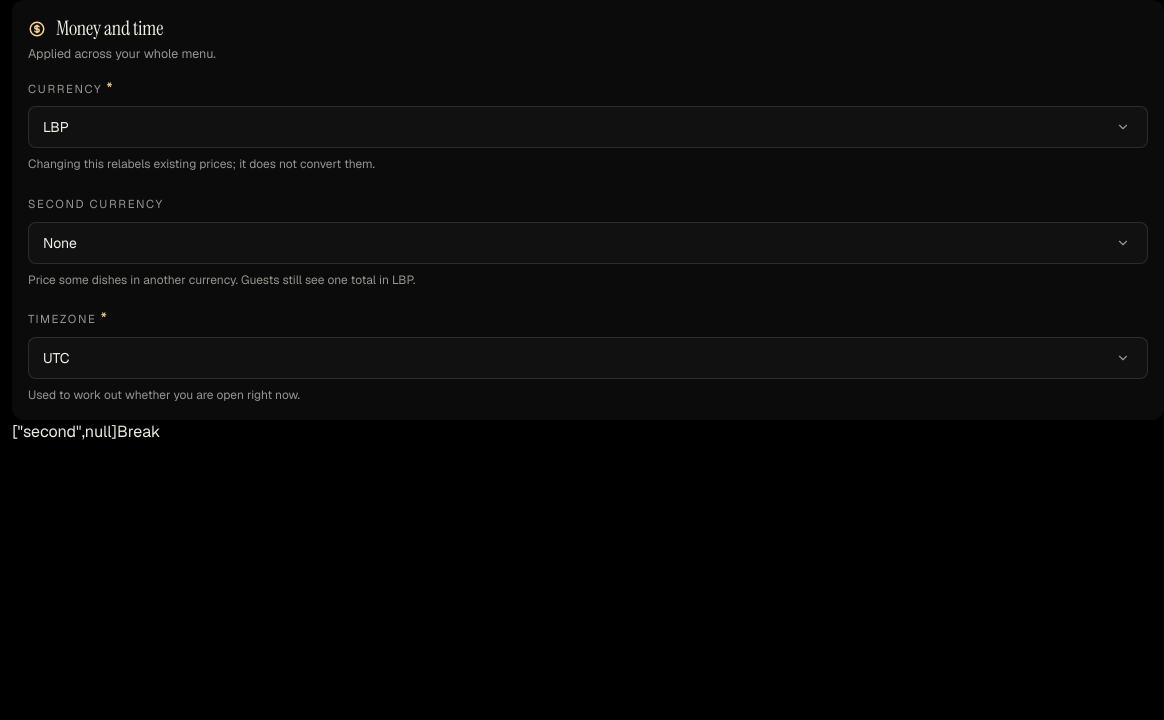
Test case: MoneyTimeSection › a second currency › starts USD on 1 USD = 89,000 LBP
Click the dropdown labelled "Second currency": click(588, 243) [29, 223, 1147, 263]
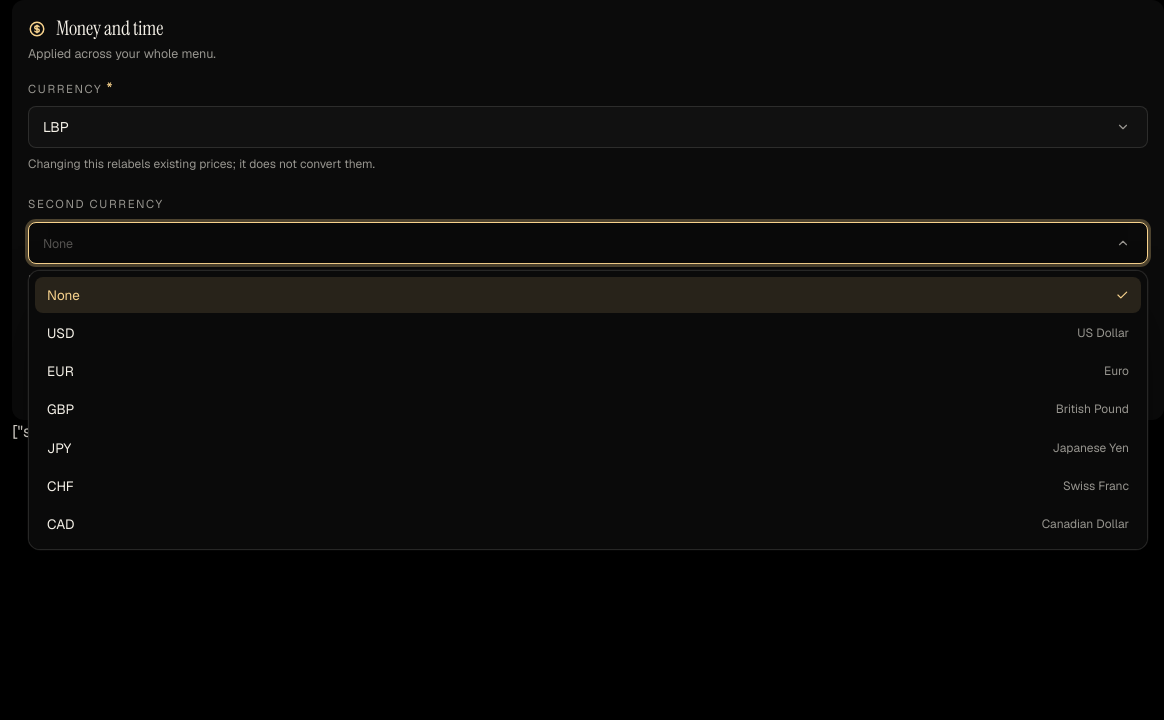
Click the option "USD US Dollar": click(1103, 333) [47, 324, 1129, 342]
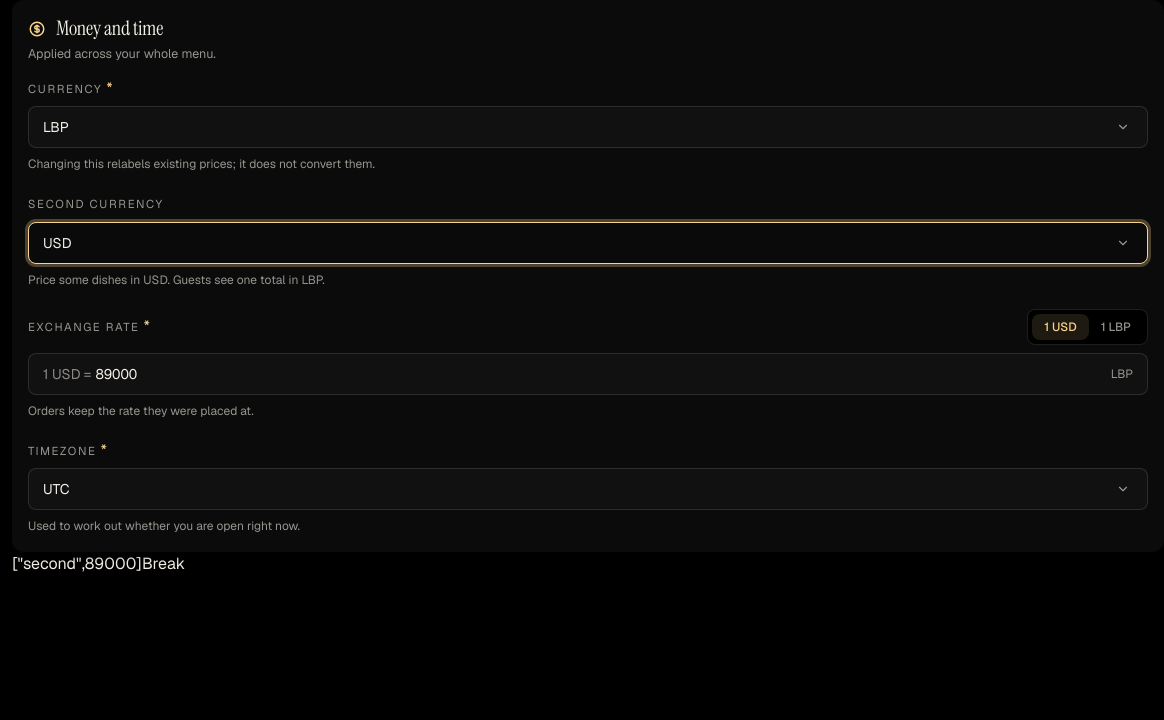
Check: the text "Price some dishes in USD. Guests see one total in LBP." is shown, box [28, 272, 325, 289]
Check: the number field labelled "Exchange rate*" holds "89000", box [91, 354, 1097, 394]
Check: the text "1 USD =" is shown, box [43, 364, 91, 384]
